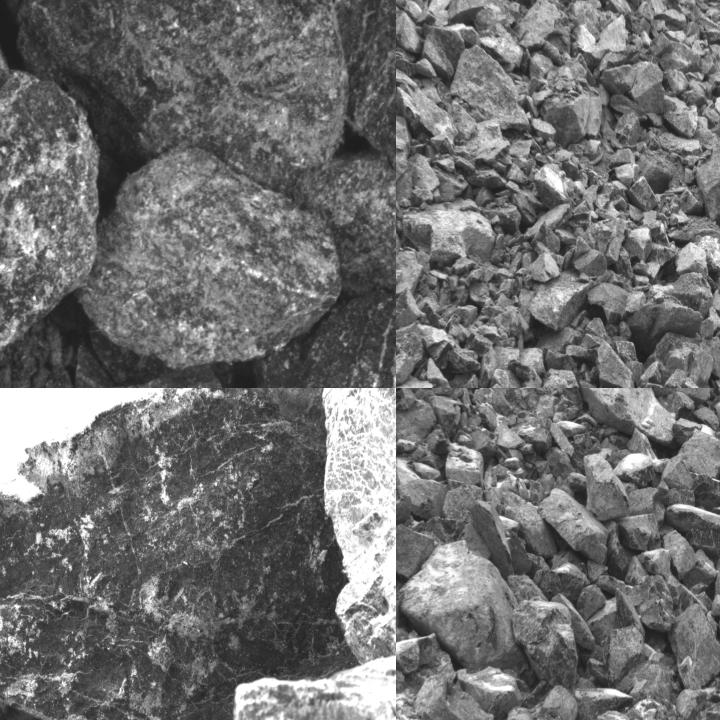stone: (0, 388, 353, 719), (17, 0, 346, 193), (81, 147, 342, 366), (0, 70, 101, 387), (396, 539, 537, 686), (292, 150, 395, 293), (330, 0, 395, 171), (450, 46, 530, 130), (568, 388, 677, 447), (631, 272, 712, 351), (512, 600, 578, 696), (402, 202, 494, 268), (536, 487, 607, 560), (668, 601, 719, 692), (613, 647, 673, 710), (528, 268, 588, 330), (543, 94, 603, 150), (515, 0, 574, 55), (584, 454, 630, 521), (627, 574, 674, 634), (602, 627, 645, 688), (476, 21, 522, 74), (589, 282, 644, 324), (696, 131, 719, 227), (628, 61, 665, 113), (596, 339, 636, 387), (660, 29, 702, 72), (416, 324, 454, 370), (534, 165, 573, 208), (396, 1, 424, 55), (661, 94, 697, 136), (447, 443, 484, 482), (422, 34, 454, 77), (597, 13, 628, 54), (672, 242, 708, 277), (396, 288, 427, 328), (690, 472, 719, 512), (624, 223, 652, 261), (686, 527, 719, 559), (600, 65, 636, 94), (397, 86, 421, 129), (609, 94, 647, 121), (628, 176, 657, 211), (475, 138, 510, 165), (573, 250, 608, 276), (616, 113, 642, 147), (529, 253, 559, 282), (396, 112, 412, 163), (449, 0, 483, 24), (427, 357, 454, 387), (573, 40, 605, 65), (608, 163, 640, 187), (396, 52, 418, 86), (664, 68, 690, 94), (650, 32, 674, 58), (529, 117, 555, 141), (396, 351, 413, 387), (612, 341, 638, 363), (640, 0, 666, 16), (453, 257, 476, 274), (544, 374, 574, 387), (624, 0, 648, 8), (505, 181, 519, 193)
